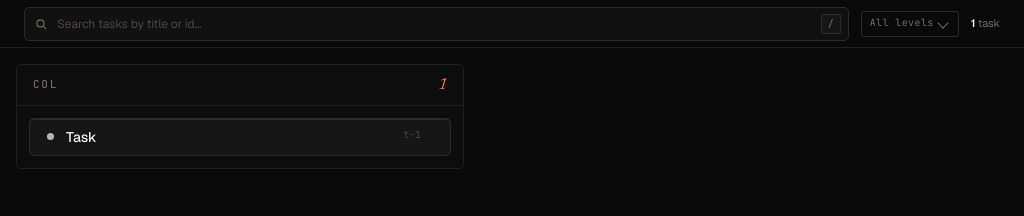
KanbanBoard › clear filters › shows clear button only when filters are active
Expected: the text "Clear" is not shown
Apply a search filter
Type "something" into the search field labelled "Search tasks by title or id" at (436, 24), box [24, 6, 849, 40]
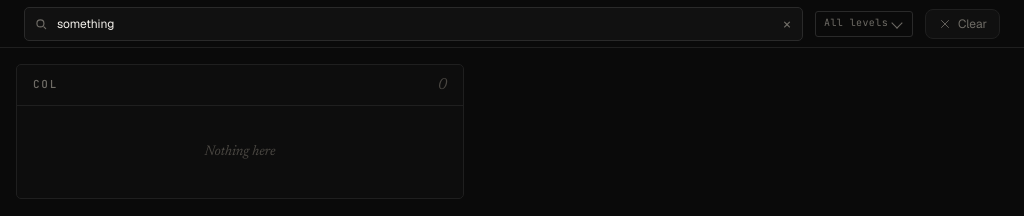
Expected: the button "Clear" is shown, [925, 8, 1000, 38]
